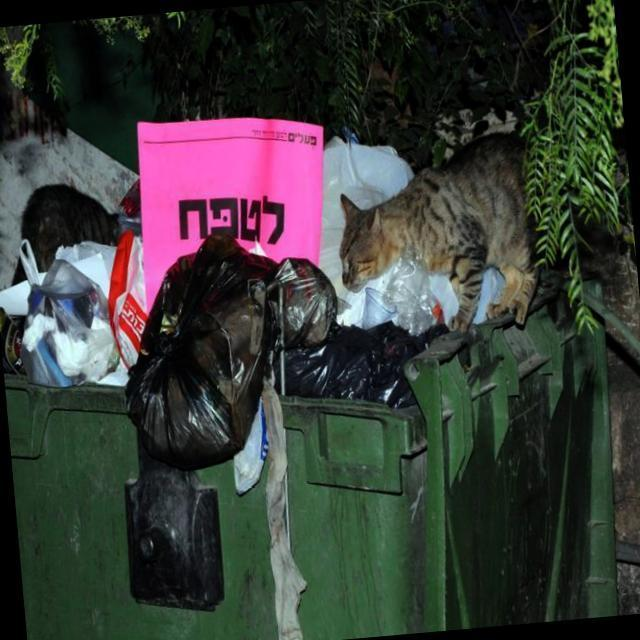garbage: (0, 153, 346, 427), (104, 213, 286, 480)
